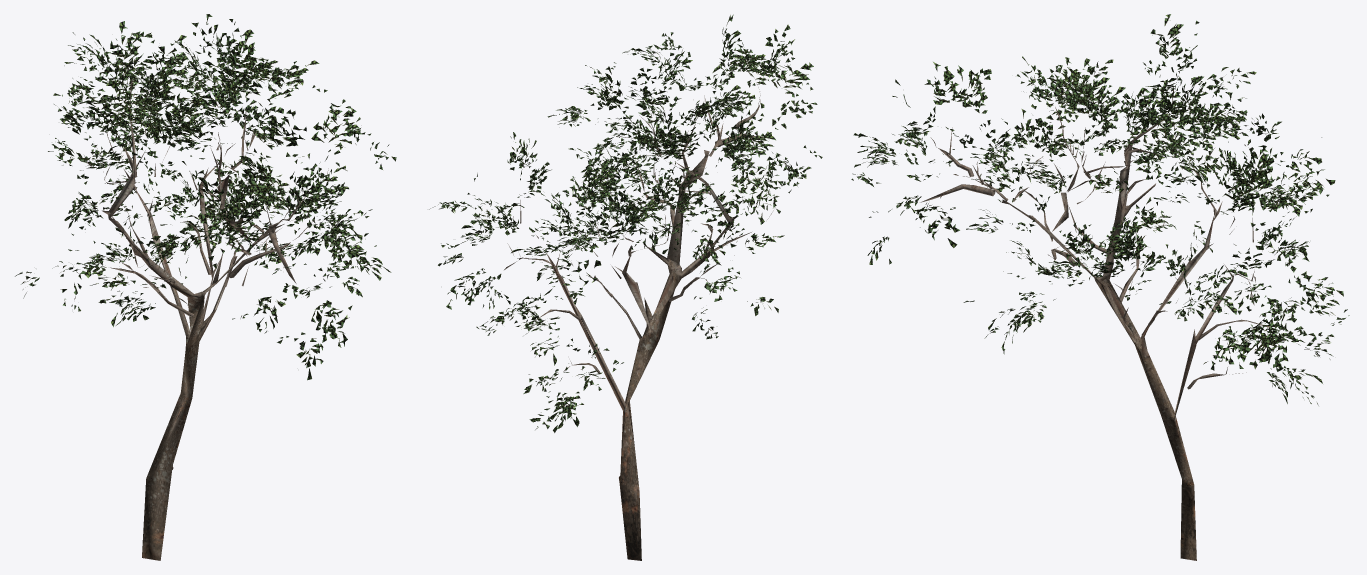
Rendered from decompressed.gltf.
3 views of the same model, side by side, from view 1: azimuth 30°, elevation 25°; view 2: azimuth 150°, elevation 25°; view 3: azimuth 270°, elevation 25° (orthographic). The views are drawn at different scales.
Parts seen in each view (by area): view 1: tree_small_02_LOD0; view 2: tree_small_02_LOD0; view 3: tree_small_02_LOD0.
Part boxes in pixels (x1,y1,x2,y2): tree_small_02_LOD0: (15,14,396,560); tree_small_02_LOD0: (429,14,822,560); tree_small_02_LOD0: (851,14,1349,560).
Bounding box in the file's own units: 2.87 × 4.55 × 4.1.
Materials: 3 (3 with a texture image).
